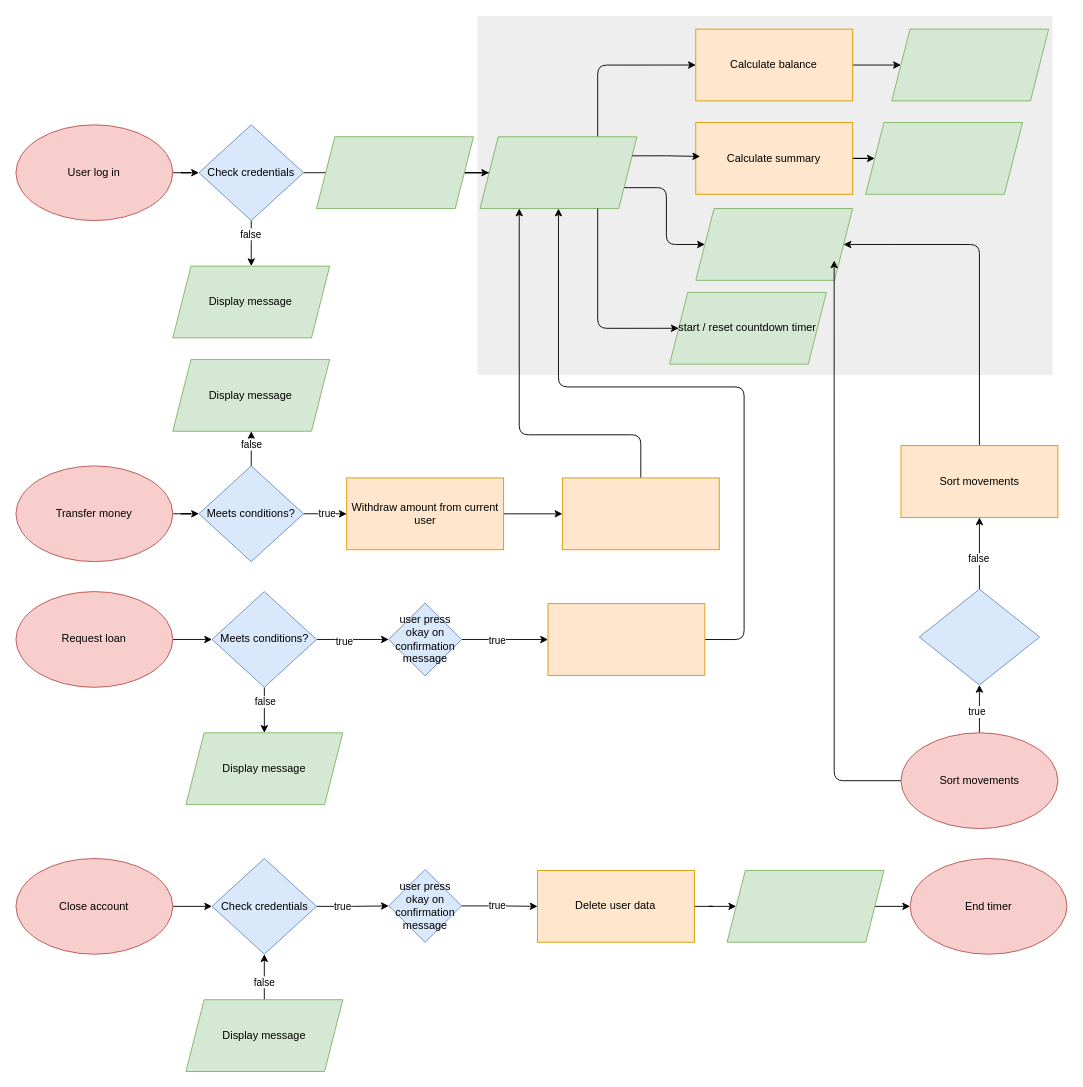
Image size: 1083x1087. Some labels were removed from this diagram. Each missing label, with the centre of its shape:
"deposit amount in current user" belongs at (x=626, y=639).
"deposit amount in recipient account" belongs at (x=640, y=513).
"Display balance" belongs at (x=970, y=64).
"Display movements" belongs at (x=774, y=244).
"Display summary" belongs at (x=944, y=158).
"Display UI and welcome message" belongs at (x=394, y=172).
"Hide UI" belongs at (x=805, y=906).
"Is sorted?" belongs at (x=979, y=636).
"Update UI" belongs at (x=558, y=172).
